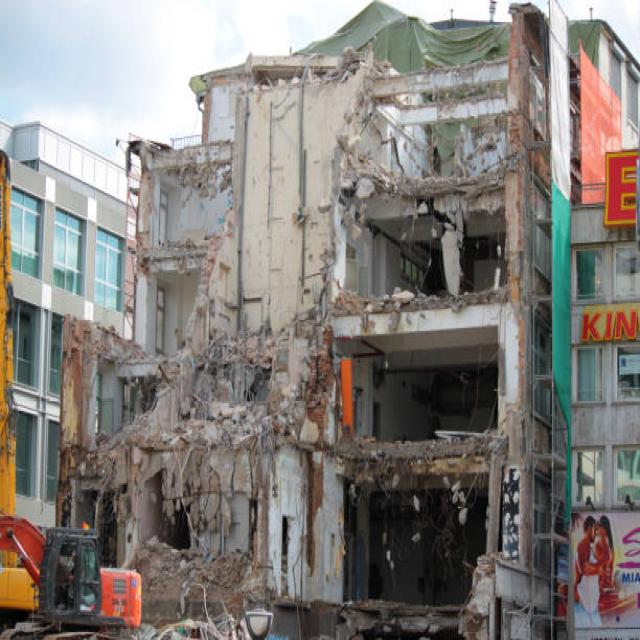Destroyed_building: (2, 0, 570, 640)
